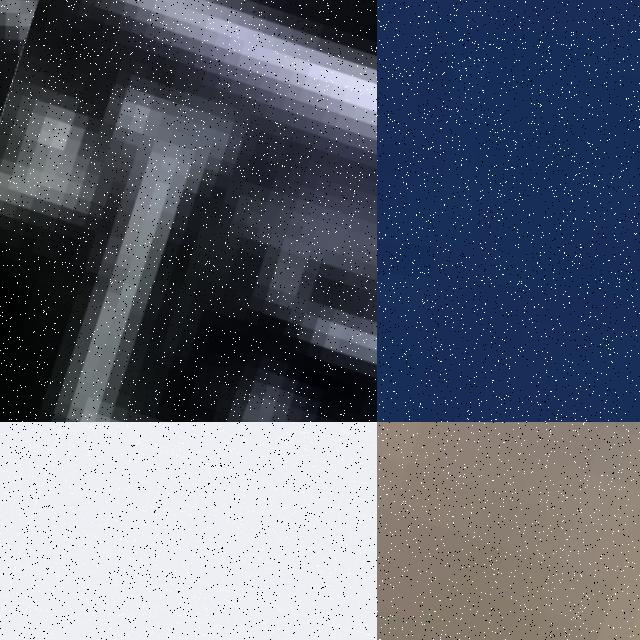drone: (0, 0, 377, 422), (0, 422, 377, 640), (377, 422, 640, 640)
